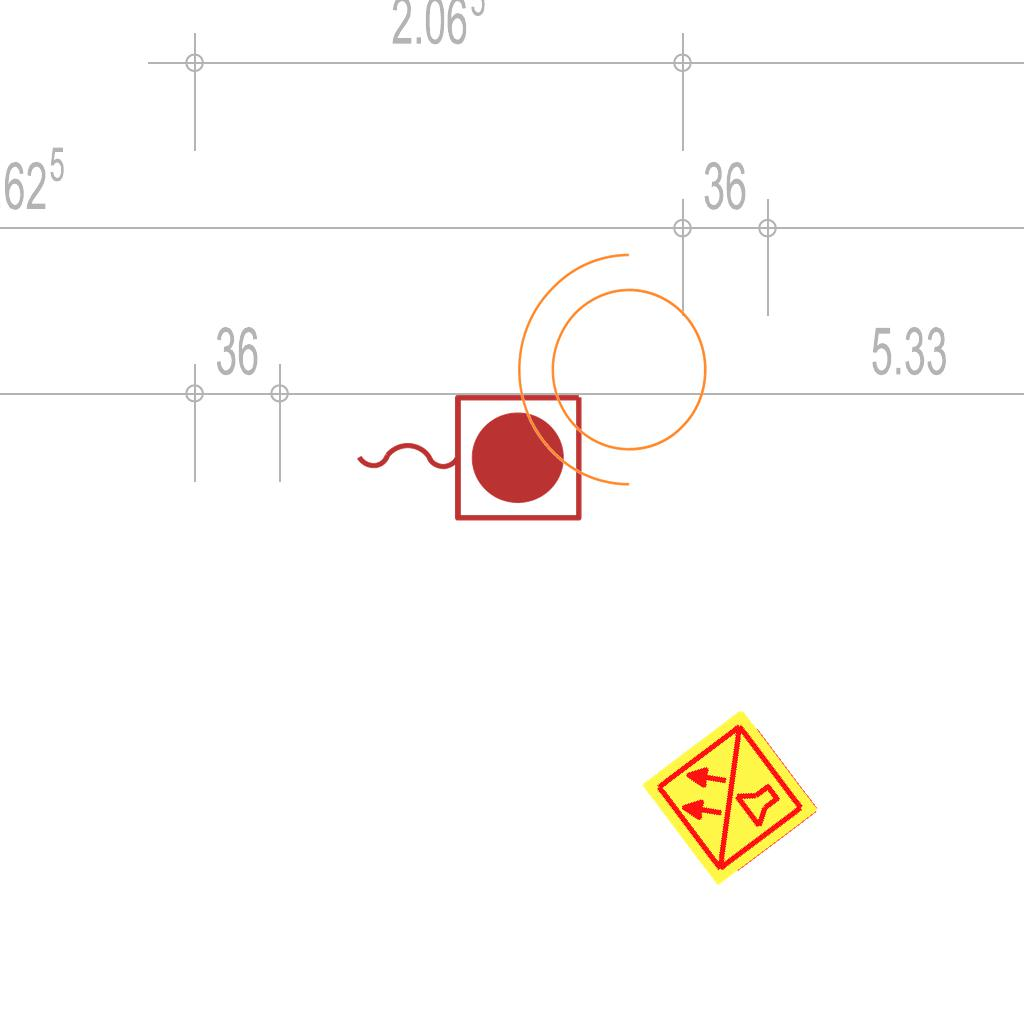OKW_Multisensormelder_(Kombination_optischer_Rauch-Kahlenmonoxid_Waerme-Melder): (637, 704, 823, 890)
Scheinwerfer_fuer_Alarmbeleuchtung: (507, 244, 732, 508)
Zugtaster: (346, 384, 590, 528)
